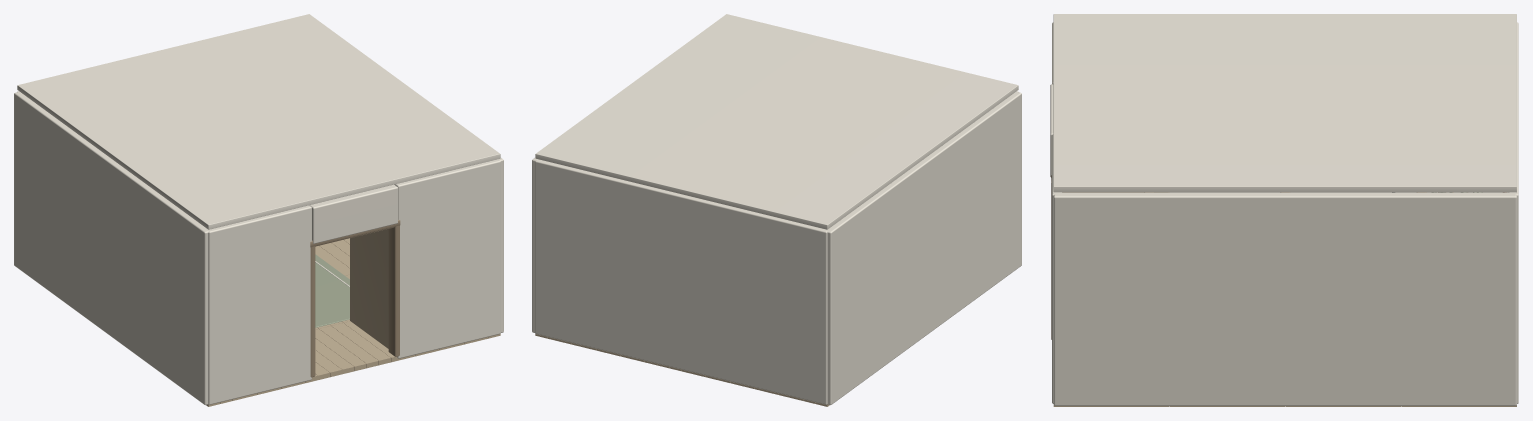
The model's file is interior-writing.glb.
3 renders of one model, left to right at view 1: azimuth 30°, elevation 25°; view 2: azimuth 150°, elevation 25°; view 3: azimuth 270°, elevation 25°, orthographic. The views are drawn at different scales.
Visible parts, largest first — view 1: shell; view 2: shell; view 3: shell.
Boxes of the visible parts, box(x1,y1,x2,y2) form: shell: box(14, 14, 503, 406); shell: box(532, 14, 1021, 406); shell: box(1050, 14, 1518, 406).
Size of the model in its own units: 6.15 by 3.57 by 6.87.
